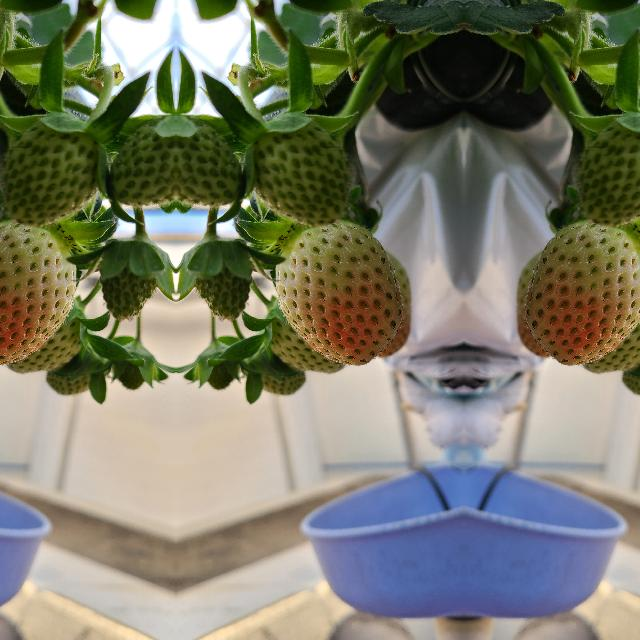Health_50: (274, 220, 402, 364), (524, 219, 640, 364), (0, 219, 75, 364)
